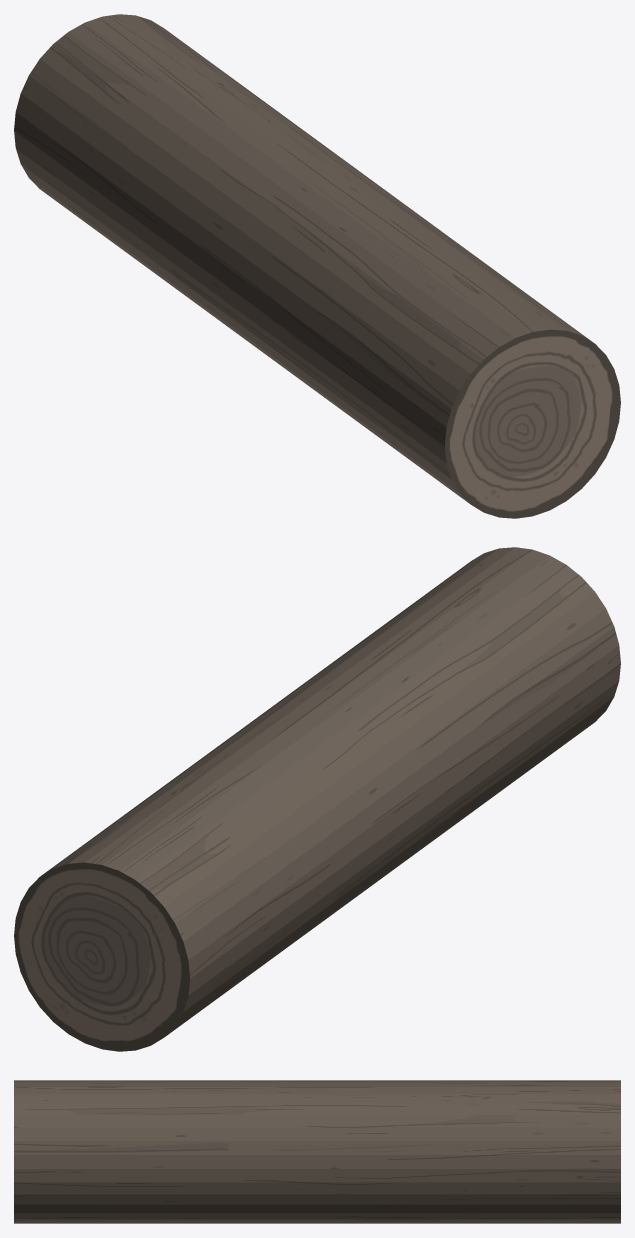
The picture shows the model from 3 angles, top to bottom: view 1: azimuth 30°, elevation 25°; view 2: azimuth 150°, elevation 25°; view 3: azimuth 270°, elevation 25°; orthographic projection. The views are drawn at different scales.
Parts seen in each view (by area): view 1: Cylindre; view 2: Cylindre; view 3: Cylindre.
Boxes of the visible parts, x1,y1,x2,y2 form: Cylindre: (14, 14, 620, 518); Cylindre: (14, 547, 620, 1051); Cylindre: (14, 1080, 620, 1223).
Size of the model in its own units: 200 by 200 by 847.
